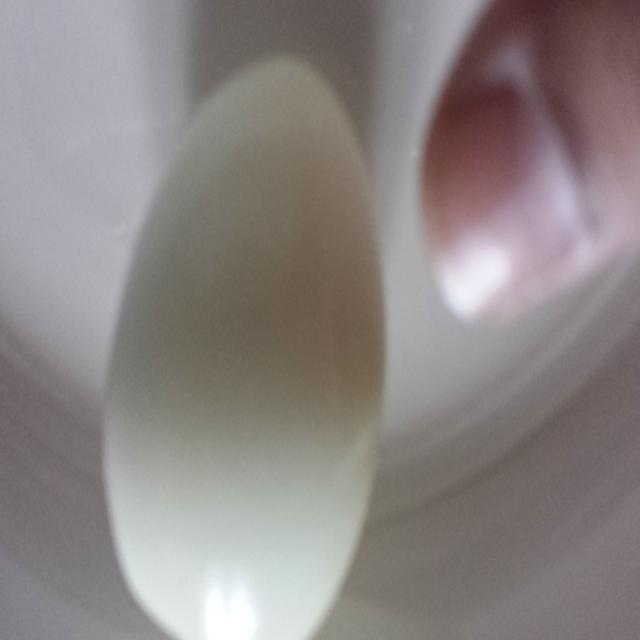egg: (95, 36, 401, 640)
